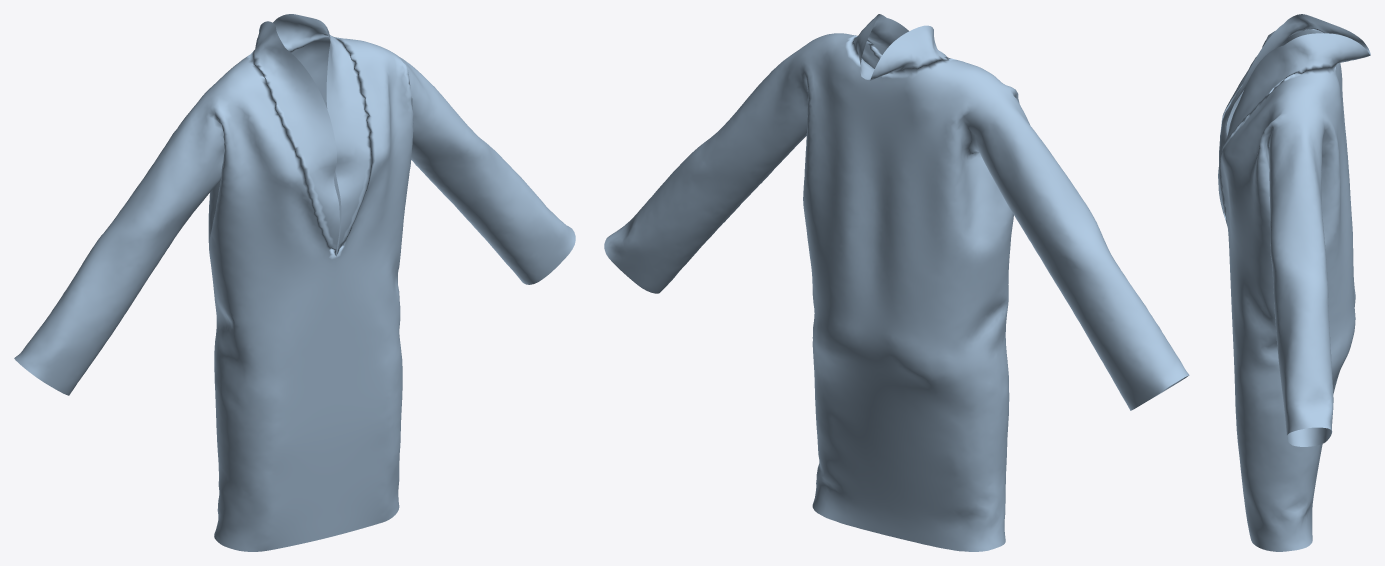
File: coat_XS.glb
3 views of the same model, side by side, from view 1: azimuth 30°, elevation 25°; view 2: azimuth 150°, elevation 25°; view 3: azimuth 270°, elevation 25° (orthographic). The views are drawn at different scales.
Visible parts, largest first — view 1: geometry_0; view 2: geometry_0; view 3: geometry_0.
Part boxes in pixels (box(x1,y1,x2,y2)): geometry_0: box(14, 14, 575, 551); geometry_0: box(604, 14, 1189, 551); geometry_0: box(1218, 14, 1370, 551).
Size of the model in its own units: 1.18 by 1.01 by 0.2858.
